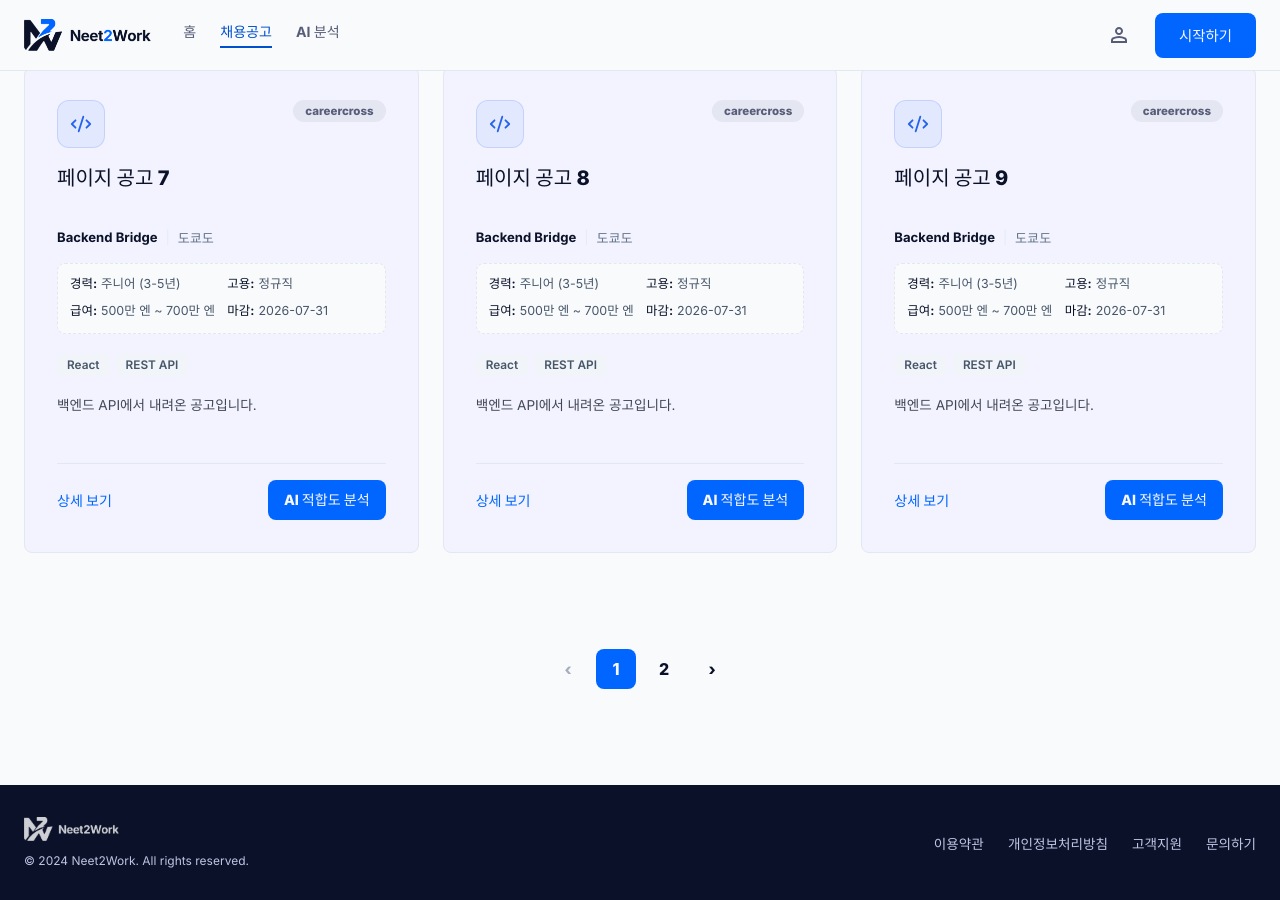
Test: Jobs page backend integration › requests the next server page and moves to the next page from the bottom pager
(page scrolled)
Expected: the heading "페이지 공고 9" is shown, x1=894 y1=166 x2=1008 y2=190
Expected: the text "페이지 공고 10" is not shown
Click the button named "다음 페이지" at (712, 669), box x1=692 y1=649 x2=732 y2=689
(page scrolled)
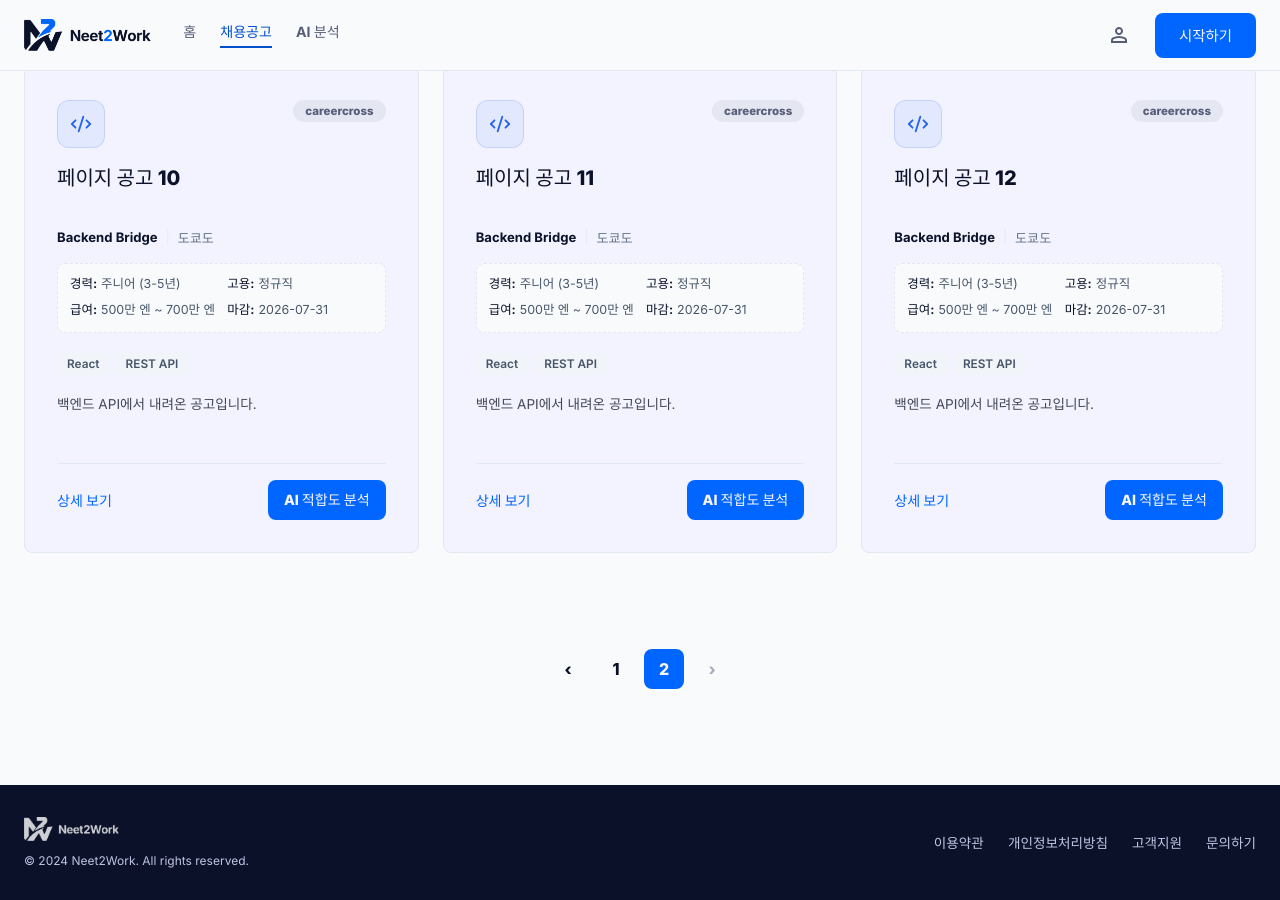
Expected: the button "2" is shown, x1=644 y1=649 x2=684 y2=689
Expected: the heading "페이지 공고 10" is shown, x1=57 y1=166 x2=180 y2=190
Expected: the heading "페이지 공고 12" is shown, x1=894 y1=166 x2=1017 y2=190
